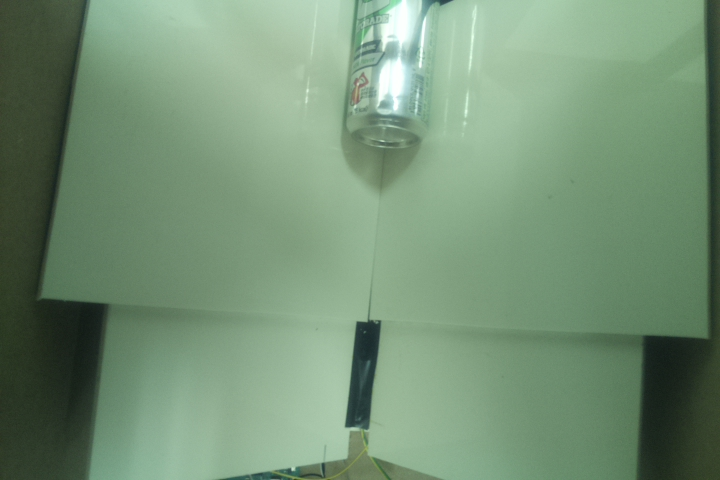can: (341, 1, 441, 154)
